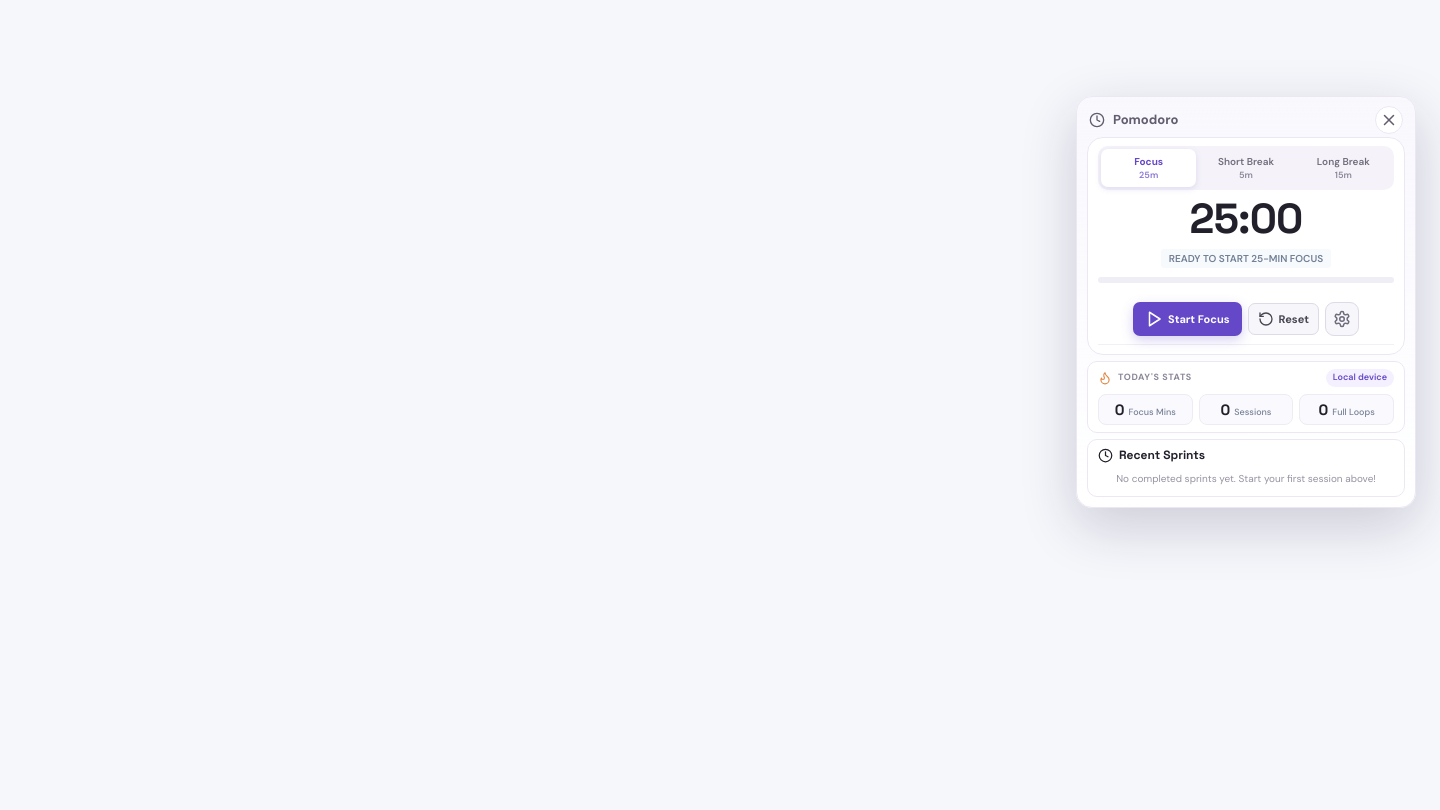
Test case: LivePomodoroSection Component (Guest Unauthenticated Experience) › ends session early and transitions appropriately
Start focus session
Click the button "Start Focus": (1187, 319) [1133,302,1242,336]
Wait 65000 ms
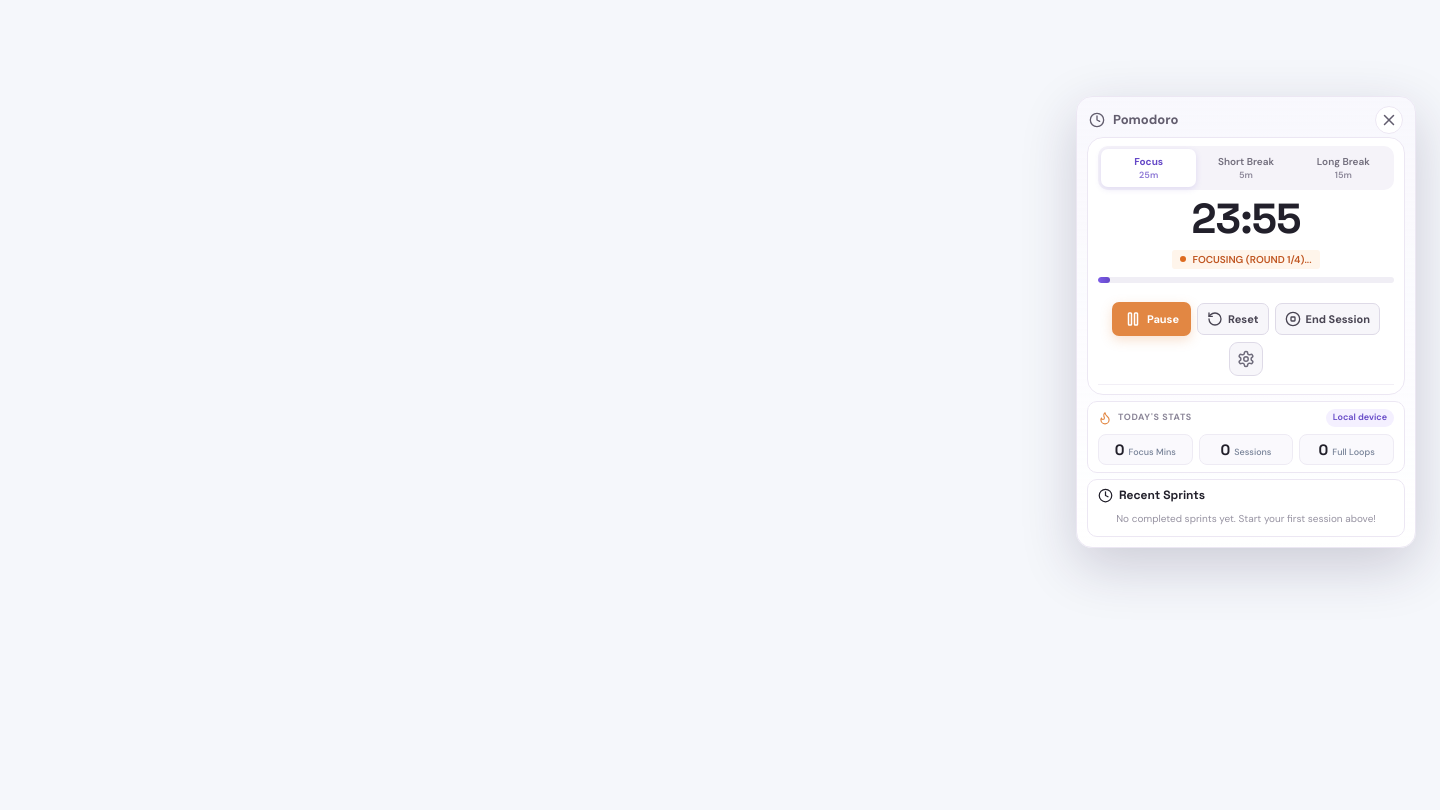
Click End Session
Click the button "End Session": (1327, 319) [1274,303,1380,335]
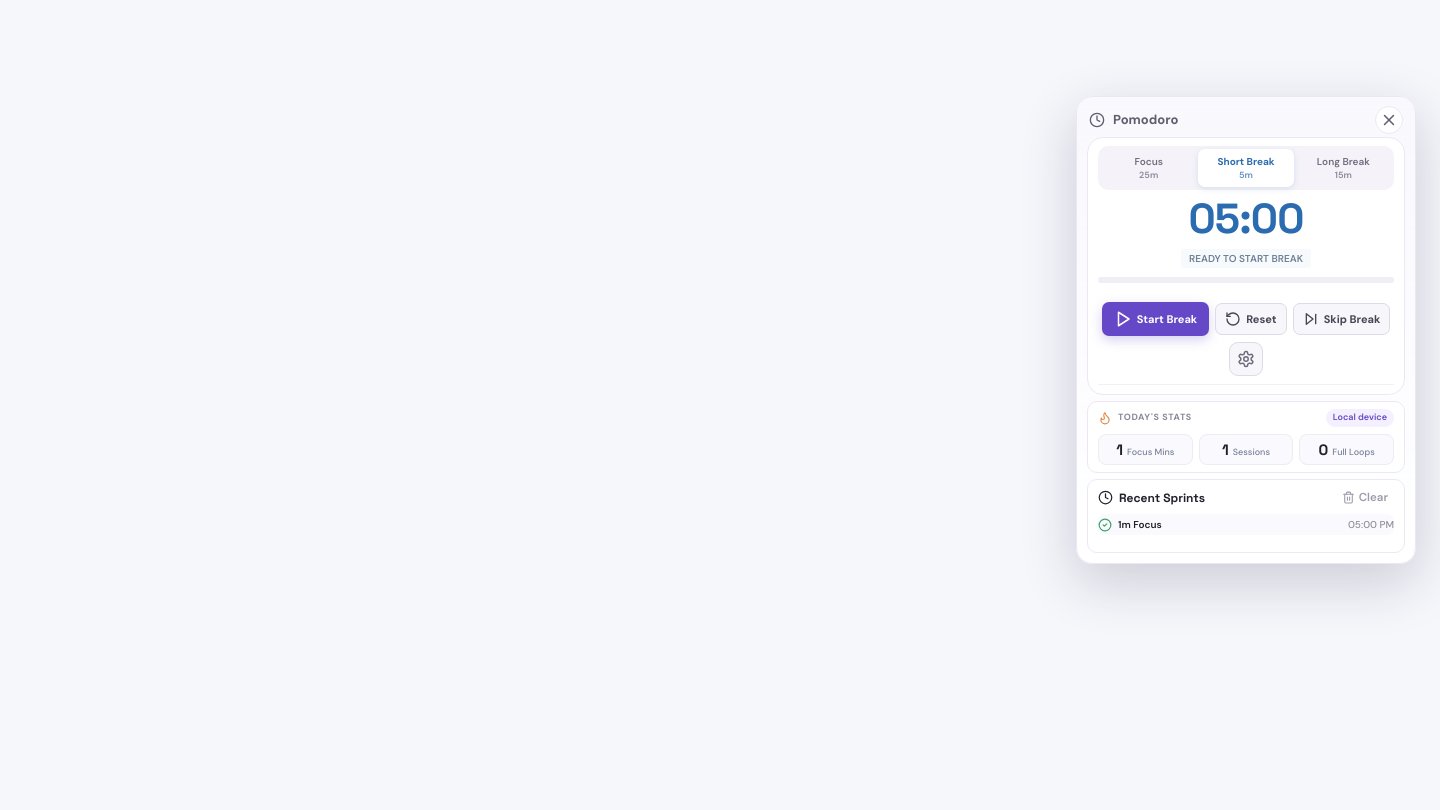
Result: the text "05:00" is shown at [1188,192,1304,245]
Result: the text "1m Focus" is shown at [1118,517,1162,532]
